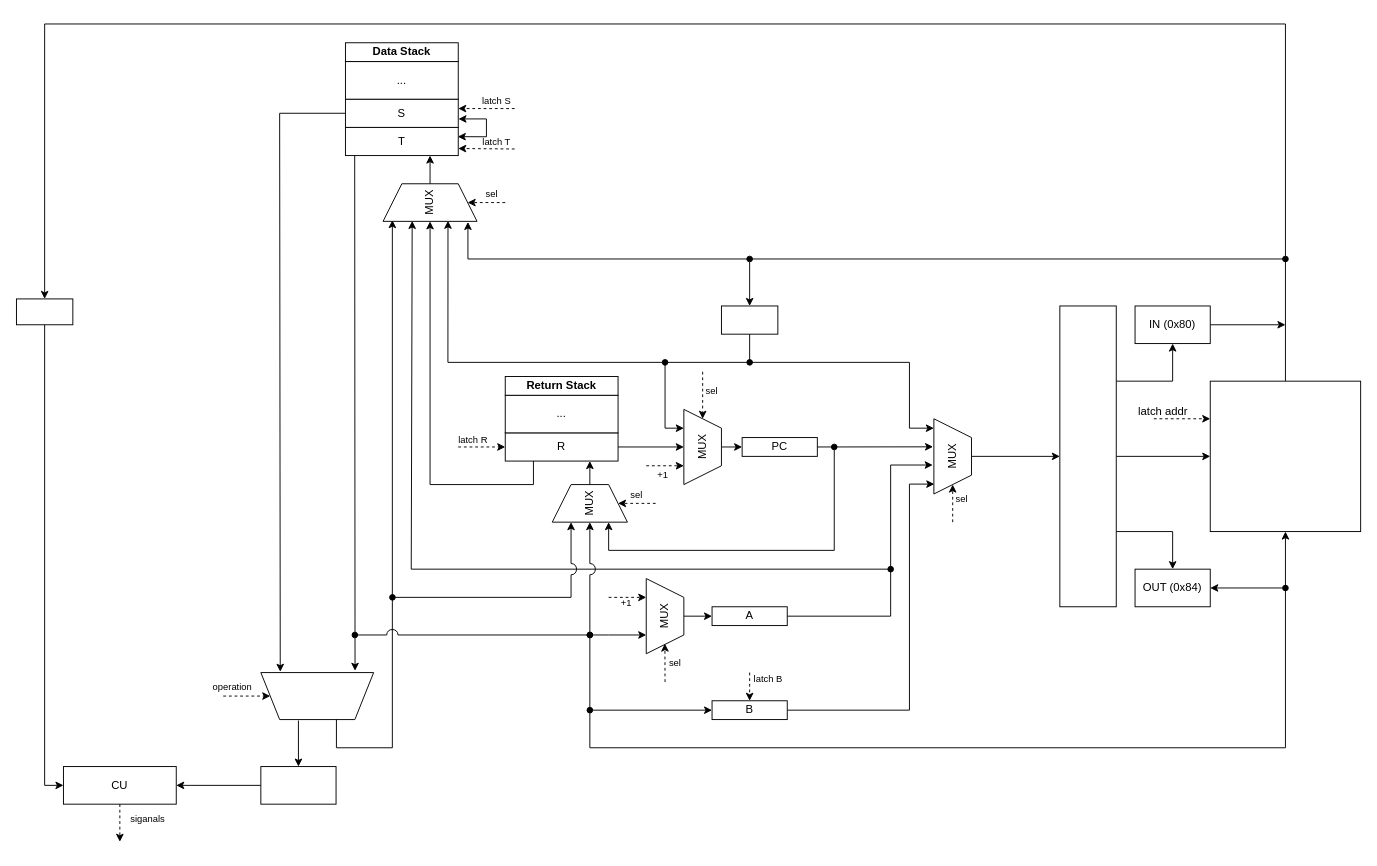
Some shapes in this 1377 by 866 pixel diagram are drawn without their labels. The shapes that lost their labels are listed below. From the top down, each one's centre as x and y in pixels, then its label:
At pixel 44 311: "&0xFF".
At pixel 749 319: "&(^0xFF)".
At pixel 1087 456: "Adress Decoder".
At pixel 1285 456: "Memory".
At pixel 317 696: "ALU".
At pixel 298 785: "Status Register".
